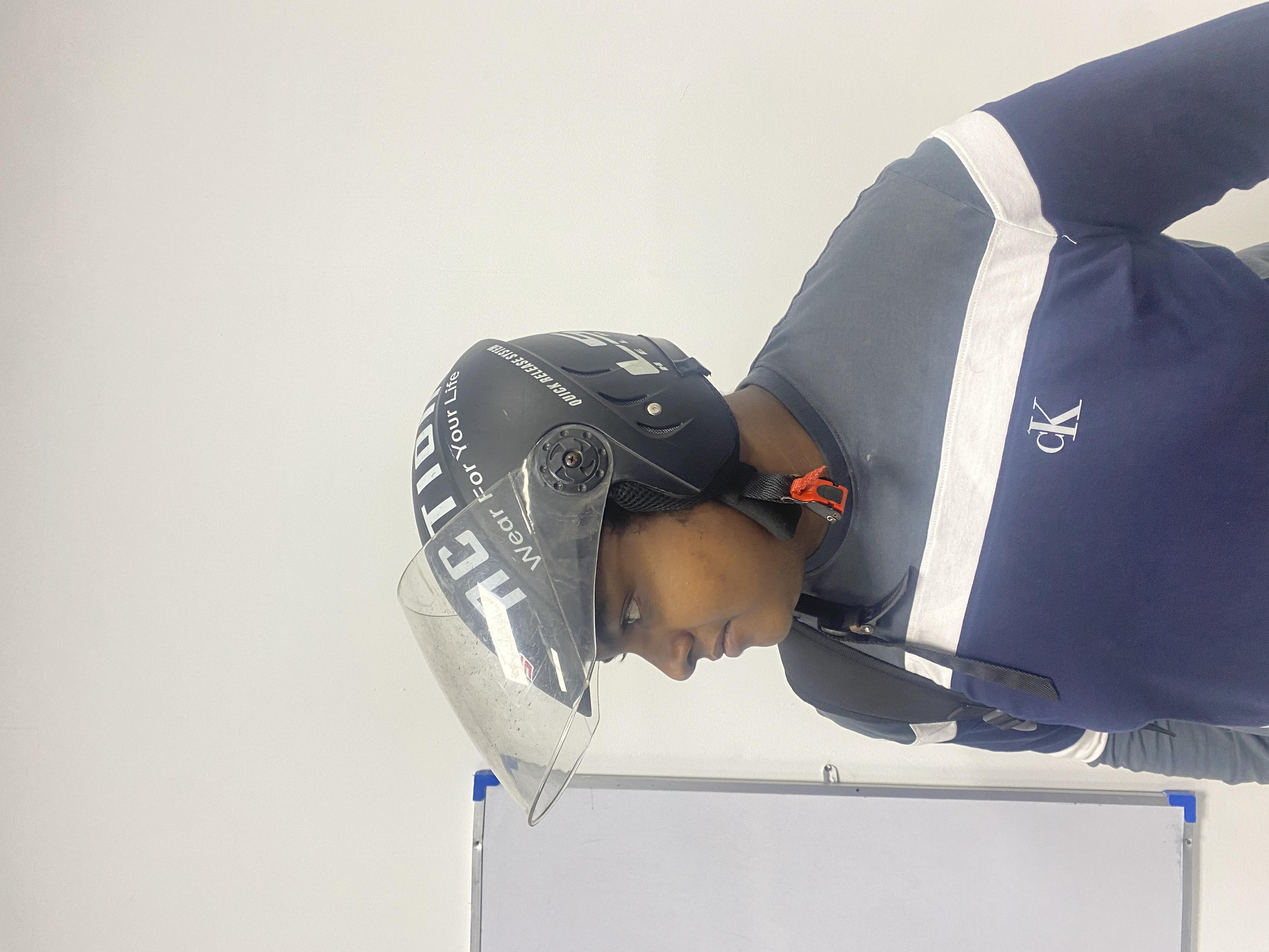helmet: (221, 297, 882, 632)
